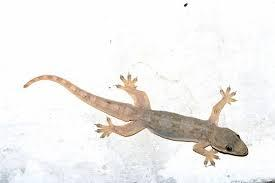lizard: (24, 67, 248, 166)
